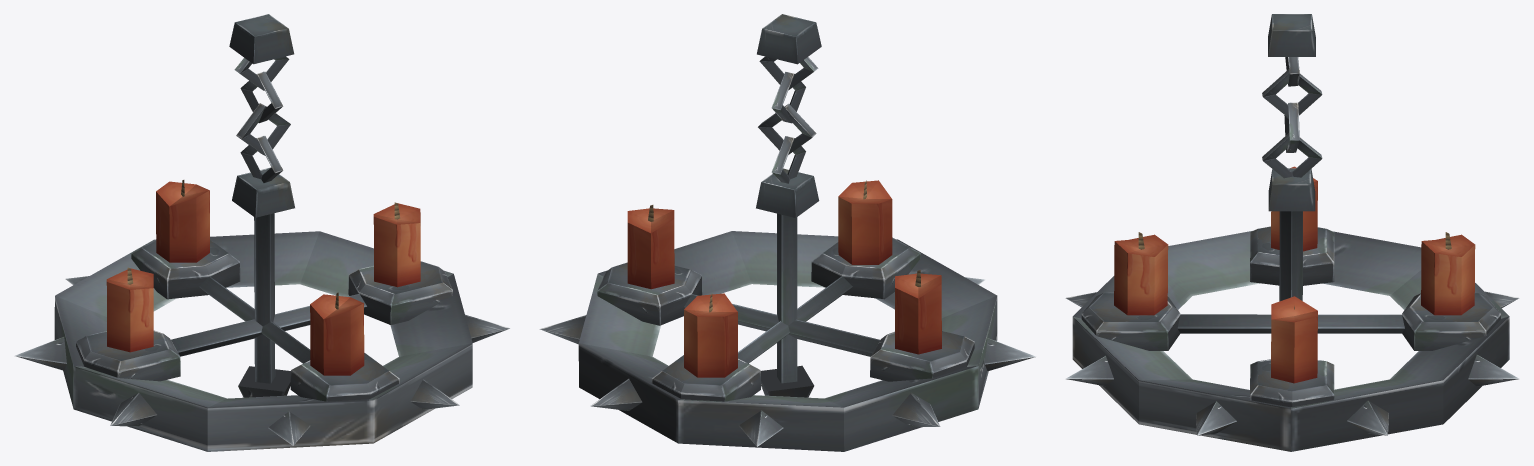
The model's file is lantern_92.fbx.
3 views of the same model, side by side, from view 1: azimuth 30°, elevation 25°; view 2: azimuth 150°, elevation 25°; view 3: azimuth 270°, elevation 25° (orthographic).
Visible parts, largest first — view 1: lantern_92:Mesh; view 2: lantern_92:Mesh; view 3: lantern_92:Mesh.
Part boxes in pixels (x1=…): lantern_92:Mesh: x1=15, y1=14, x2=509, y2=451; lantern_92:Mesh: x1=539, y1=14, x2=1036, y2=451; lantern_92:Mesh: x1=1065, y1=14, x2=1519, y2=451.
Bounding box in the file's own units: 4.08 × 4.1 × 4.03.
